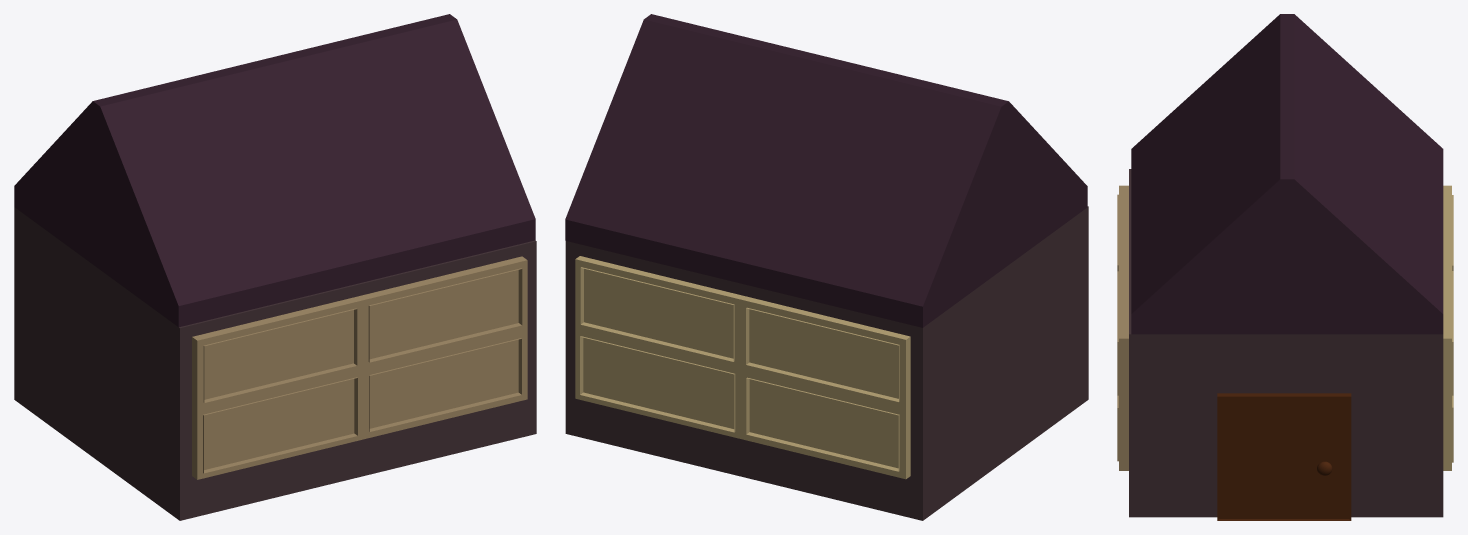
Rendered from schijndodenhuis.fbx.
3 views of the same model, side by side, from view 1: azimuth 30°, elevation 25°; view 2: azimuth 150°, elevation 25°; view 3: azimuth 270°, elevation 25° (orthographic). The views are drawn at different scales.
Parts seen in each view (by area): view 1: schijndod; view 2: schijndod; view 3: schijndod.
Boxes of the visible parts, bbox=[...] form: schijndod: bbox=[14, 14, 536, 520]; schijndod: bbox=[565, 14, 1088, 520]; schijndod: bbox=[1117, 14, 1453, 520].
Bounding box in the file's own units: 683 × 628 × 567.
